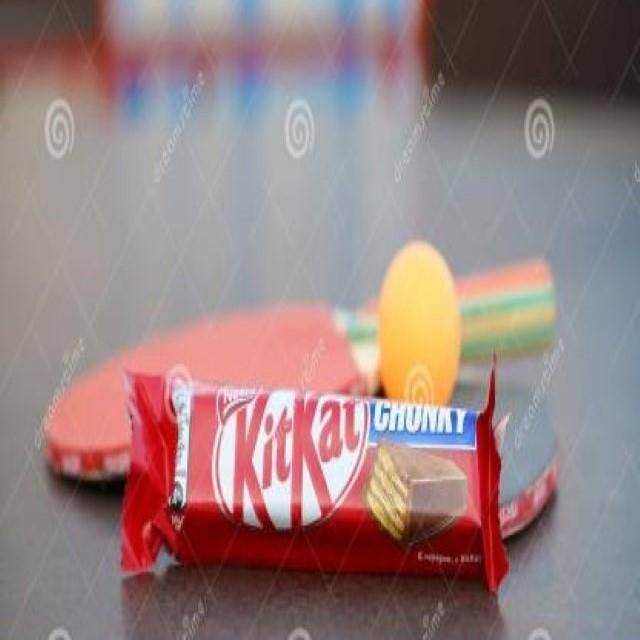kitkat_chocolate: (163, 375, 520, 572)
